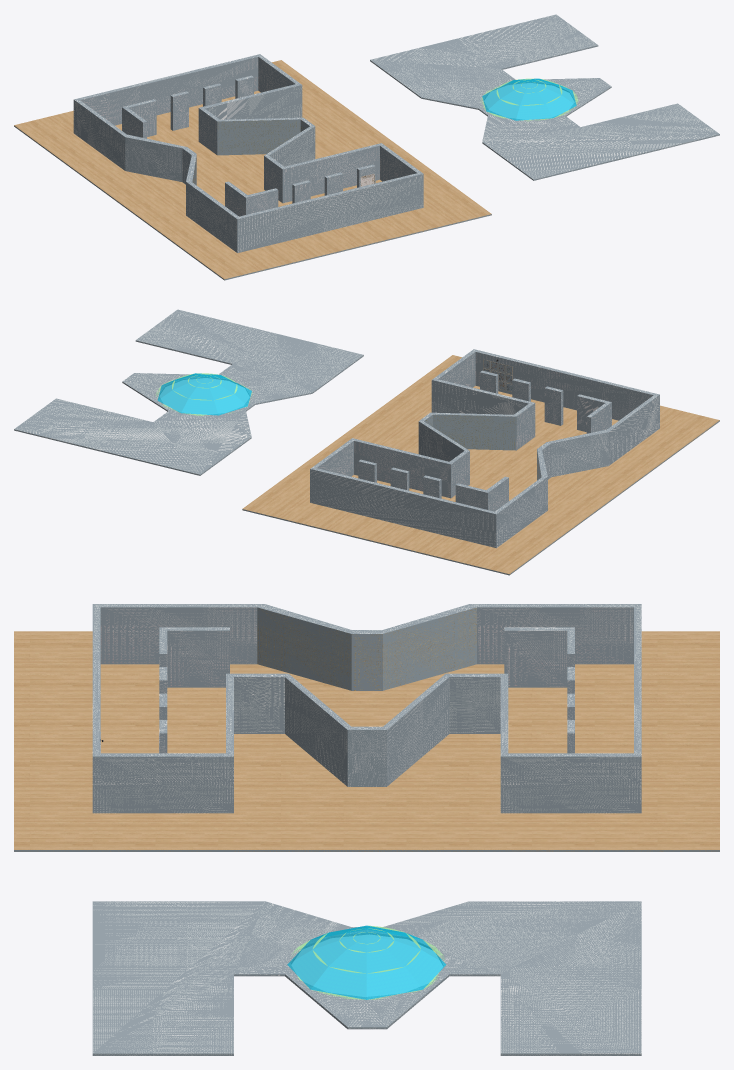
Rendered from EdifMari.obj.
3 renders of one model, top to bottom at view 1: azimuth 30°, elevation 25°; view 2: azimuth 150°, elevation 25°; view 3: azimuth 270°, elevation 25°, orthographic. The views are drawn at different scales.
Visible parts, largest first — view 1: Mesh35 Model, Mesh36 Model, Mesh9 cupula1 Model; view 2: Mesh35 Model, Mesh36 Model, Mesh9 cupula1 Model; view 3: Mesh35 Model, Mesh36 Model, Mesh9 cupula1 Model.
Boxes of the visible parts, x1,y1,x2,y2 form: Mesh35 Model: [14, 54, 491, 280]; Mesh36 Model: [370, 14, 719, 180]; Mesh9 cupula1 Model: [480, 78, 578, 121]; Mesh35 Model: [242, 349, 719, 575]; Mesh36 Model: [14, 309, 363, 475]; Mesh9 cupula1 Model: [156, 373, 252, 415]; Mesh35 Model: [14, 604, 719, 851]; Mesh36 Model: [92, 901, 641, 1055]; Mesh9 cupula1 Model: [287, 925, 446, 999].
Size of the model in its own units: 64.05 by 4.15 by 45.
30 materials, 24 textured.
